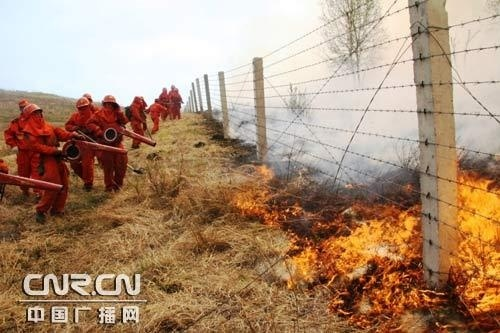fire: (268, 125, 500, 319), (230, 159, 288, 225)
